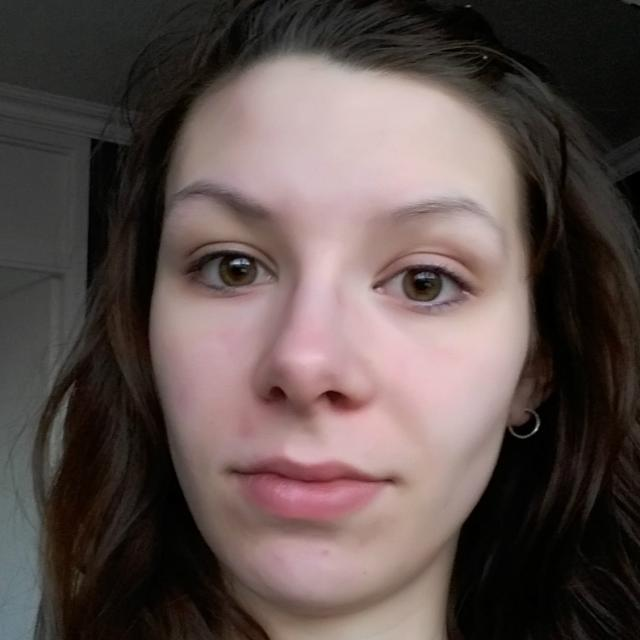Depress: (150, 59, 530, 611)
